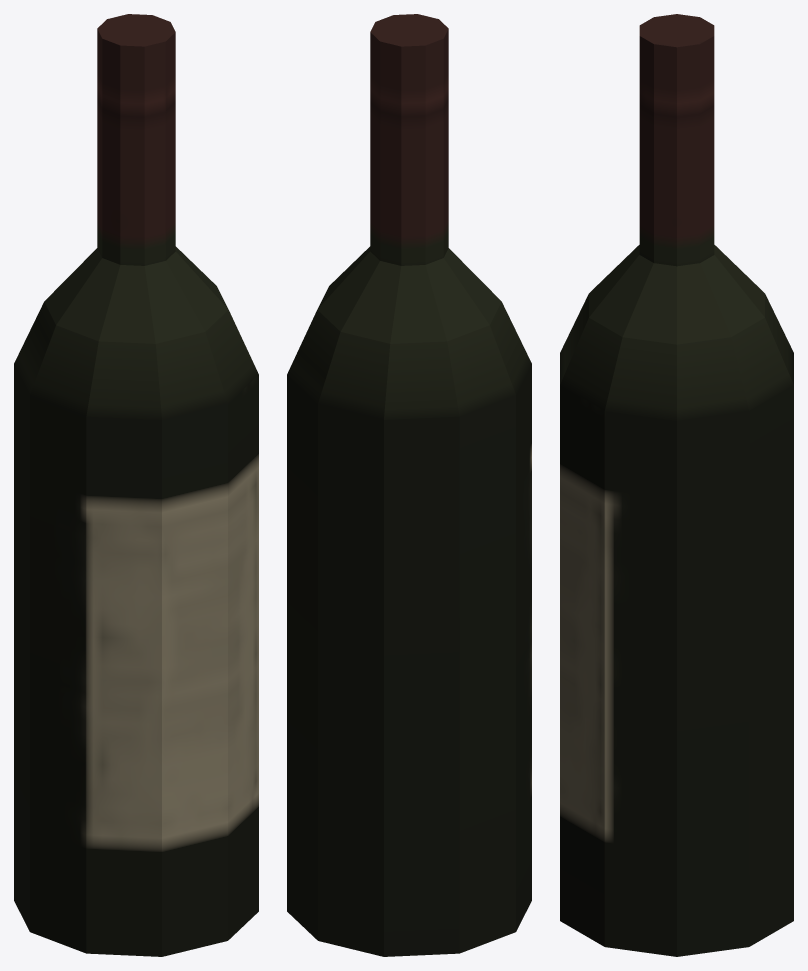
Rendered from wineBottle.fbx.
3 views of the same model, side by side, from view 1: azimuth 30°, elevation 25°; view 2: azimuth 150°, elevation 25°; view 3: azimuth 270°, elevation 25° (orthographic).
Visible parts, largest first — view 1: pCylinder27; view 2: pCylinder27; view 3: pCylinder27.
Part boxes in pixels (x1,y1,x2,y2): pCylinder27: (14,14,258,956); pCylinder27: (287,14,531,956); pCylinder27: (560,14,793,956).
Size of the model in its own units: 50.37 by 198 by 47.9.
